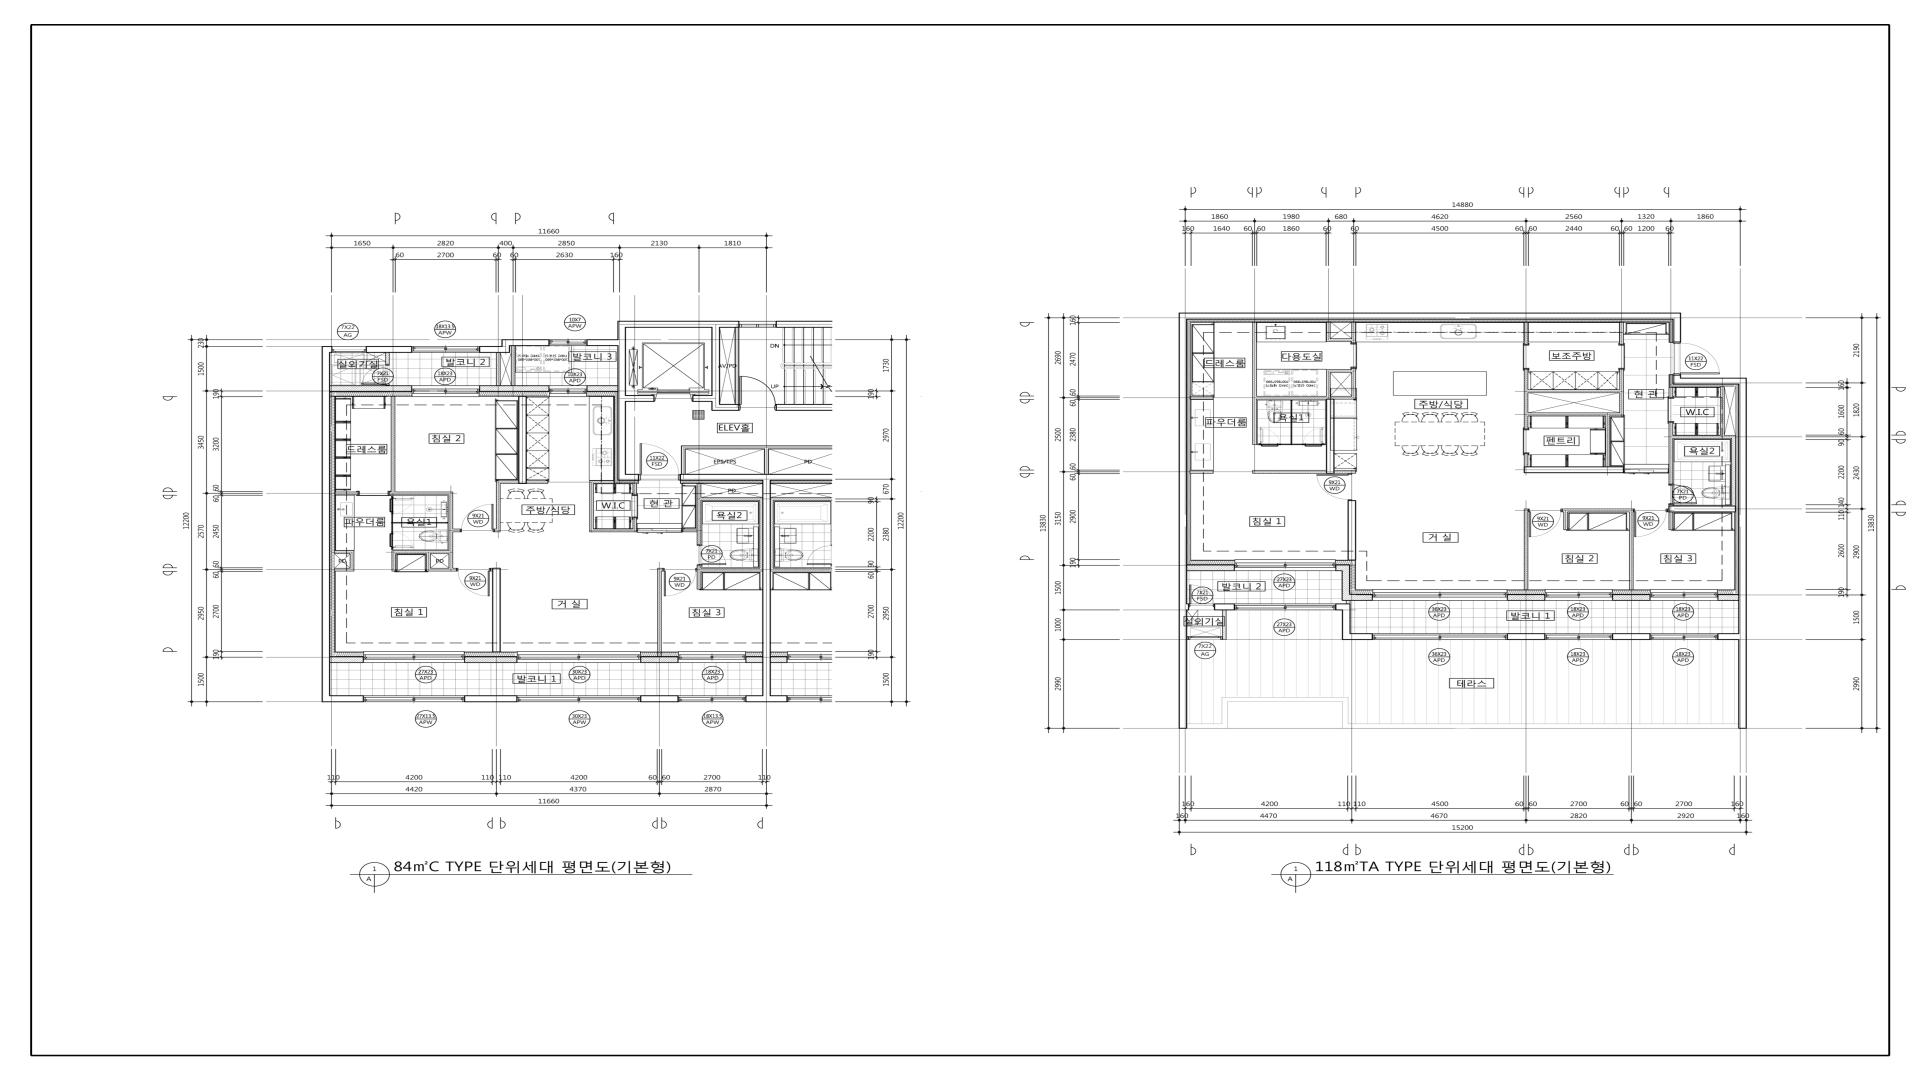door: (640, 443, 680, 480), (740, 376, 777, 411), (1679, 343, 1720, 375), (460, 504, 495, 533), (456, 568, 492, 596), (1528, 510, 1561, 538), (1634, 510, 1667, 538), (663, 568, 696, 596), (1316, 475, 1352, 500), (696, 545, 727, 566), (361, 364, 389, 385), (1671, 484, 1697, 505), (1189, 584, 1215, 605), (389, 496, 414, 514), (389, 531, 414, 550), (1303, 427, 1323, 447), (1261, 427, 1280, 447), (1625, 468, 1669, 473), (637, 529, 682, 533), (632, 493, 638, 520), (357, 491, 389, 496), (1668, 397, 1675, 422), (1523, 344, 1530, 369), (1523, 430, 1530, 454), (1618, 345, 1625, 369), (1350, 344, 1357, 368)
wall: (1179, 313, 1681, 640), (1673, 375, 1747, 640), (322, 345, 332, 702), (762, 481, 771, 695), (617, 328, 626, 480), (1336, 604, 1373, 640), (680, 473, 832, 480), (617, 320, 740, 327), (711, 327, 720, 411), (492, 568, 501, 653), (518, 396, 526, 484), (1524, 467, 1625, 473), (680, 446, 832, 450), (1327, 400, 1335, 473), (657, 568, 663, 657), (1348, 500, 1357, 560), (1668, 505, 1737, 513), (330, 385, 411, 392), (390, 397, 396, 492), (1253, 322, 1257, 444), (480, 385, 549, 392), (777, 320, 832, 328), (777, 404, 832, 411), (1523, 509, 1528, 589), (1629, 509, 1634, 589), (464, 695, 517, 703), (735, 327, 740, 404), (448, 496, 454, 568), (1528, 413, 1625, 417), (1528, 389, 1619, 393), (367, 345, 411, 353), (464, 657, 517, 663), (745, 695, 787, 703), (1668, 422, 1673, 484), (501, 339, 550, 345), (495, 484, 501, 533), (696, 484, 702, 545), (1187, 564, 1234, 571), (1253, 469, 1327, 473), (1257, 396, 1331, 400), (641, 695, 678, 703), (330, 695, 364, 703), (1341, 571, 1350, 600), (1731, 438, 1735, 505), (1605, 417, 1610, 467), (1611, 633, 1651, 640), (1720, 386, 1725, 435), (389, 492, 454, 496), (1507, 633, 1545, 640), (1507, 595, 1545, 601), (1613, 595, 1651, 601), (1673, 435, 1735, 439), (641, 657, 678, 663), (1524, 369, 1528, 430), (480, 345, 510, 353), (702, 497, 760, 501), (330, 657, 364, 663), (392, 550, 448, 554), (587, 339, 617, 345), (587, 385, 617, 392), (589, 529, 637, 533), (760, 497, 762, 568), (626, 396, 654, 402), (589, 484, 593, 529), (1561, 509, 1629, 512), (1619, 369, 1623, 413), (496, 353, 501, 385), (702, 568, 762, 571), (512, 345, 516, 385), (1350, 595, 1373, 601), (720, 404, 738, 411), (1215, 604, 1234, 611), (1718, 595, 1738, 601), (680, 450, 686, 473), (764, 450, 769, 473), (692, 396, 711, 402), (1222, 611, 1226, 640), (1523, 323, 1528, 344), (1352, 368, 1356, 396), (1327, 369, 1331, 396), (746, 657, 762, 663), (1331, 396, 1356, 400), (589, 480, 615, 484), (1336, 564, 1350, 571), (1189, 469, 1213, 473), (1189, 396, 1213, 400), (698, 566, 702, 589), (1668, 513, 1673, 530), (349, 554, 355, 571), (1619, 323, 1623, 345), (1352, 322, 1356, 344), (496, 480, 518, 484), (335, 492, 357, 496), (626, 473, 640, 480), (1335, 469, 1356, 473), (1331, 369, 1352, 373), (527, 480, 549, 484), (334, 550, 355, 554), (426, 568, 456, 571), (426, 554, 431, 568), (1564, 512, 1568, 530), (393, 522, 448, 524), (1327, 322, 1331, 339), (392, 554, 396, 571), (1327, 339, 1352, 342), (1280, 443, 1303, 446), (1291, 400, 1292, 443), (1524, 454, 1528, 467), (683, 529, 696, 533), (1668, 388, 1673, 397), (385, 353, 389, 364), (335, 568, 349, 571), (633, 520, 637, 529), (633, 484, 637, 493), (454, 529, 460, 533), (392, 514, 393, 531), (1346, 600, 1350, 604)
window: (1373, 589, 1507, 601), (517, 651, 641, 663), (1234, 559, 1336, 571), (364, 651, 464, 663), (1373, 633, 1507, 640), (517, 695, 641, 702), (411, 385, 480, 397), (1545, 589, 1613, 601), (1651, 589, 1718, 601), (678, 651, 745, 663), (1234, 604, 1336, 611), (364, 695, 464, 702), (549, 385, 587, 397), (1651, 633, 1718, 640), (678, 695, 745, 702), (1545, 633, 1611, 640), (411, 347, 479, 352), (740, 320, 777, 327), (550, 339, 587, 345), (332, 347, 367, 352), (1188, 636, 1222, 640)
